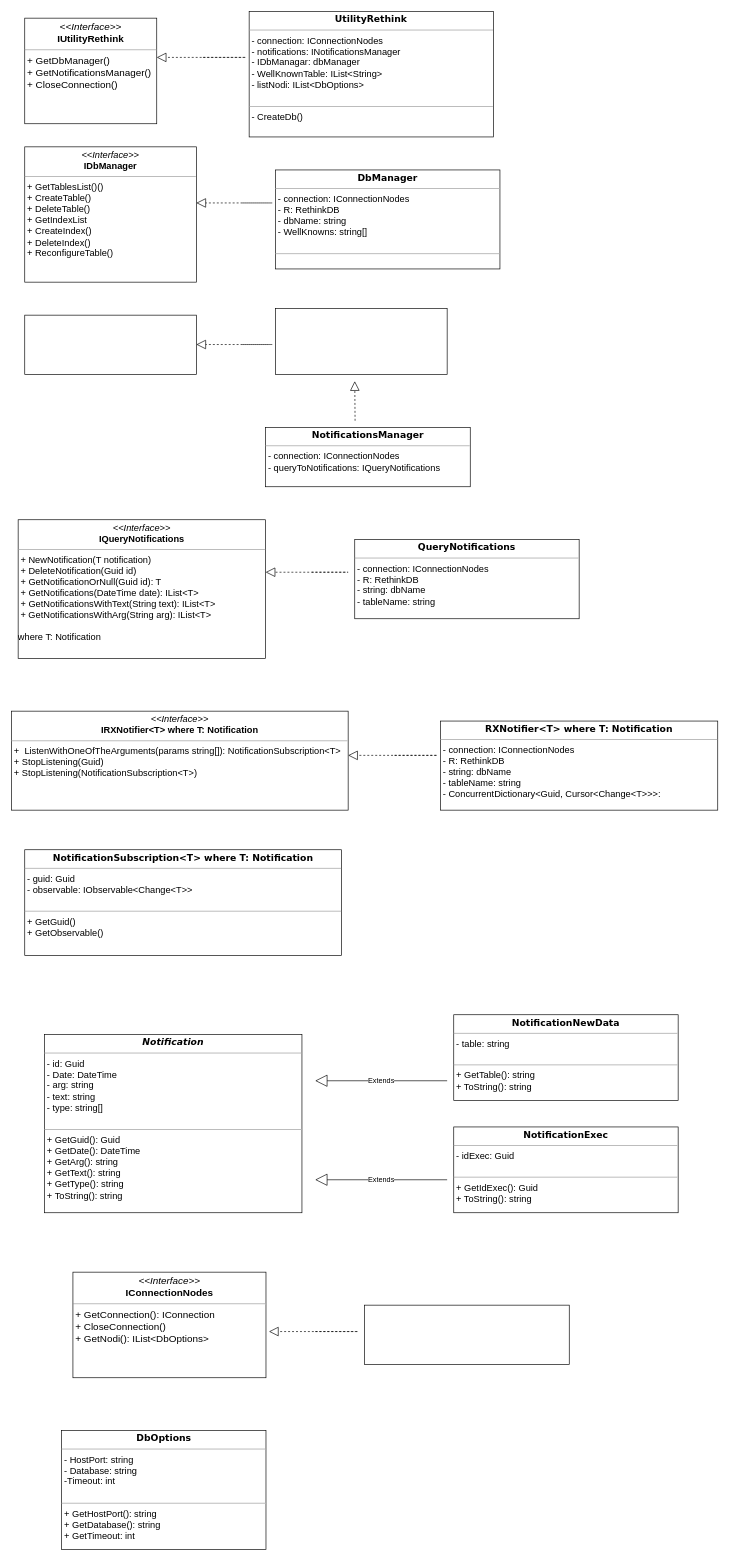
The diagram is 729 pixels wide and 1561 high, and some of its shapes have lost their labels. Here are the shapes that lost their labels. From the top down, the centre of each, then its label:
At point (110, 344): "<<Interface>> IManager + GetWellKnownTable()".
At point (361, 341): "<<Interface>> INotificationsManager + GetQueryService() + GetNotifier()".
At point (466, 1334): "ConnectionNodes - conn: ConnectionPool - listNodi: IList<DbOptions>".
